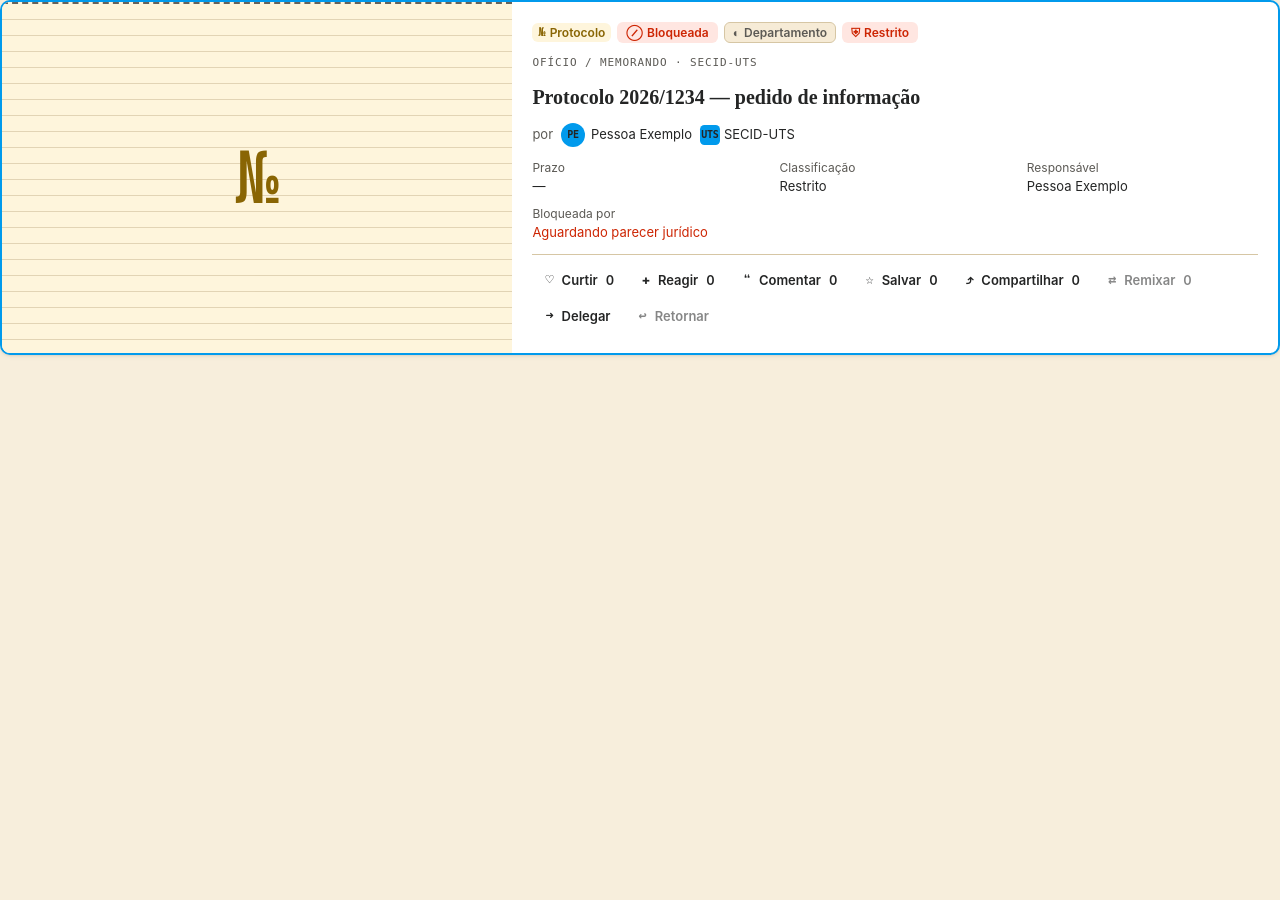
Delegar (RF18.CA03–CA05) › RESTRITO: colega de outro departamento aparece desabilitado com o motivo
Click the button with test id "action-delegate": (578, 316) [532,299,624,333]
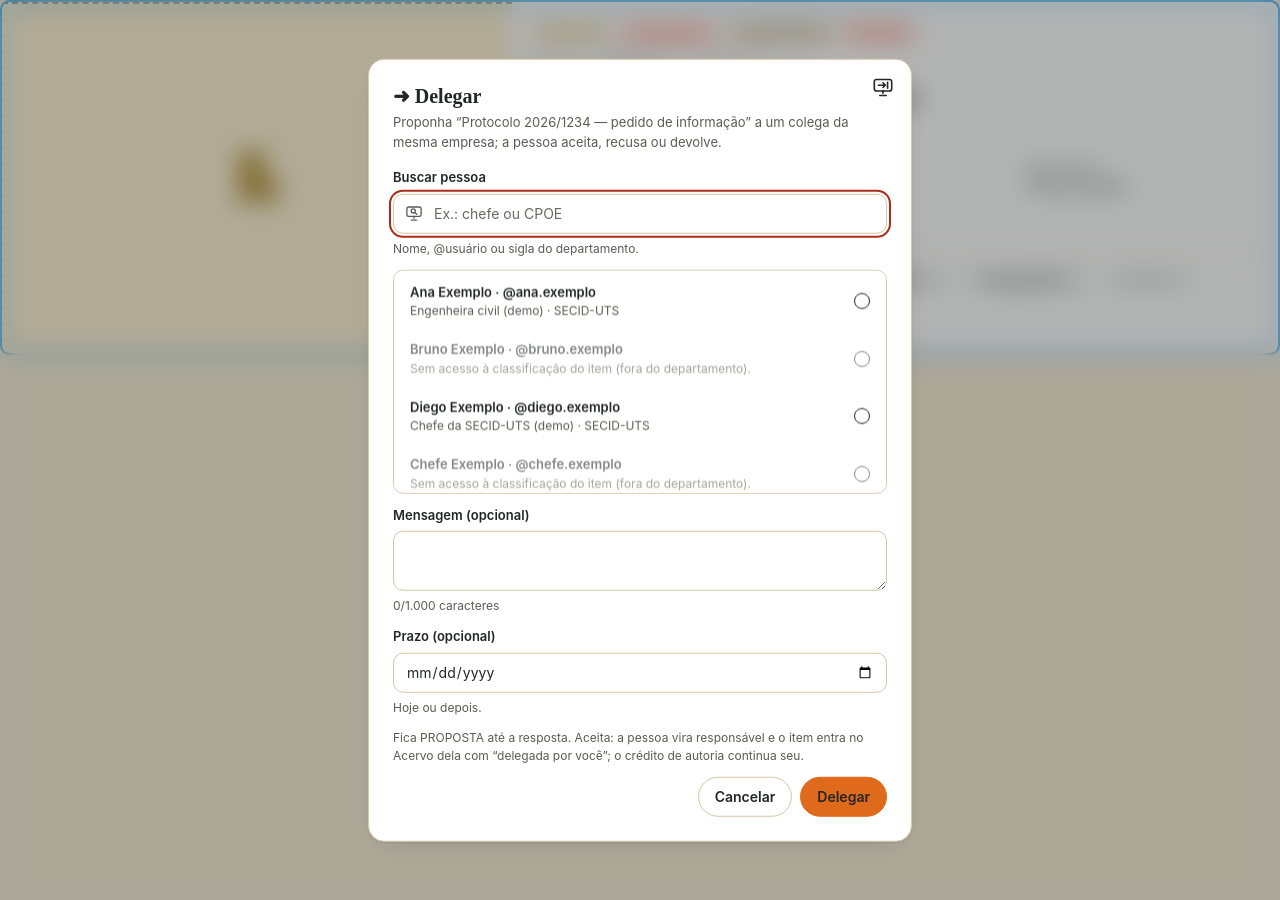
Expected: the option "Bruno Exemplo" shows "fora do departamento", [398,332,882,385]
